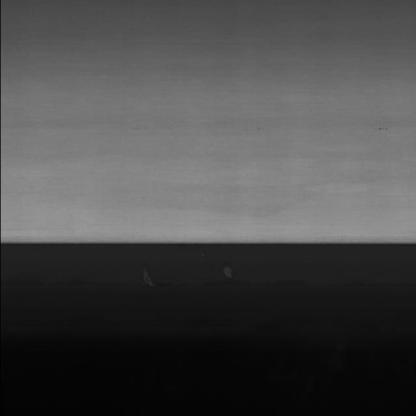inclusion: (375, 125, 392, 132)
